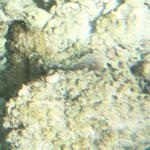dead: (4, 1, 146, 149)
